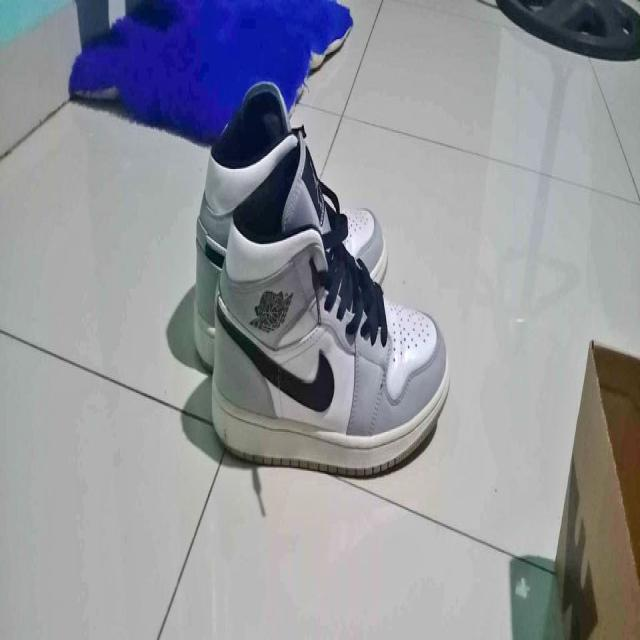nike original jordan 1: (211, 128, 458, 477), (194, 82, 394, 376)
